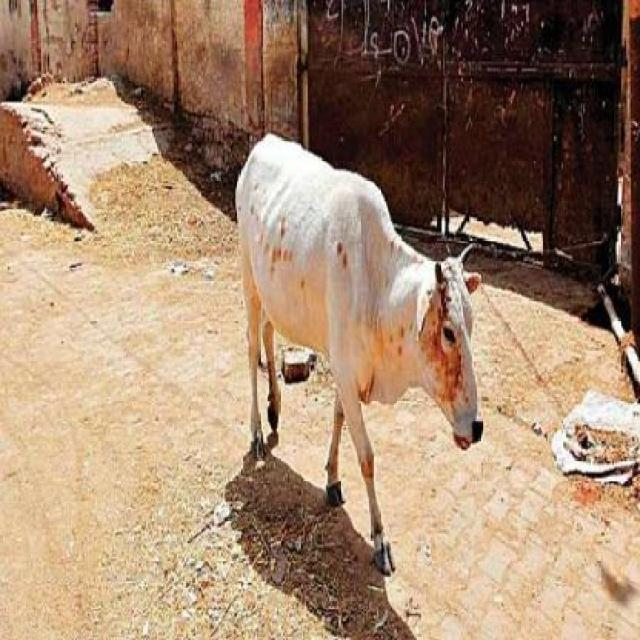cow: (237, 141, 491, 584)
injured: (438, 290, 460, 427)
